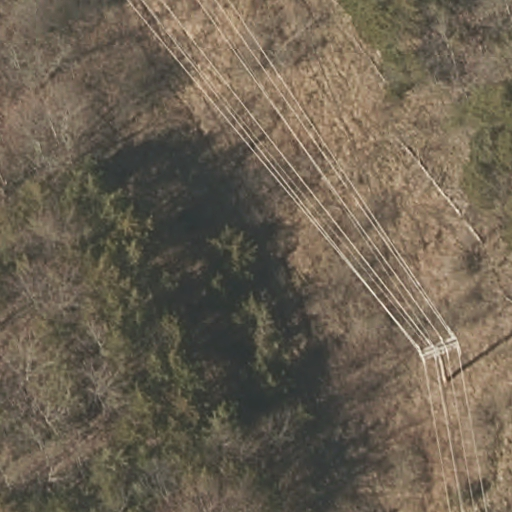DT: (414, 331, 462, 369)
